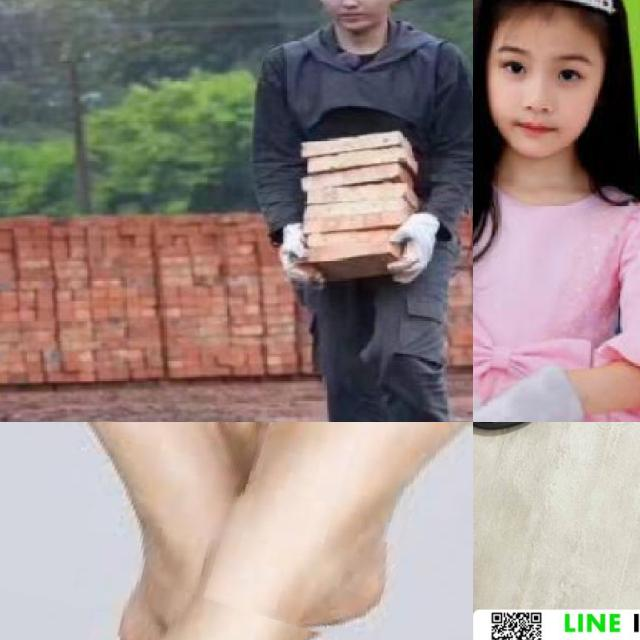Barefoots: (206, 422, 473, 640)
No_Glasses: (489, 37, 601, 100)
Sandals: (473, 422, 583, 640)
face_nomask: (486, 20, 606, 162), (313, 0, 386, 39)
hand_glove: (473, 368, 561, 422), (384, 215, 440, 288), (270, 226, 324, 288)
head_nohelmet: (473, 0, 629, 32)
person: (262, 0, 473, 422), (473, 0, 640, 422)
